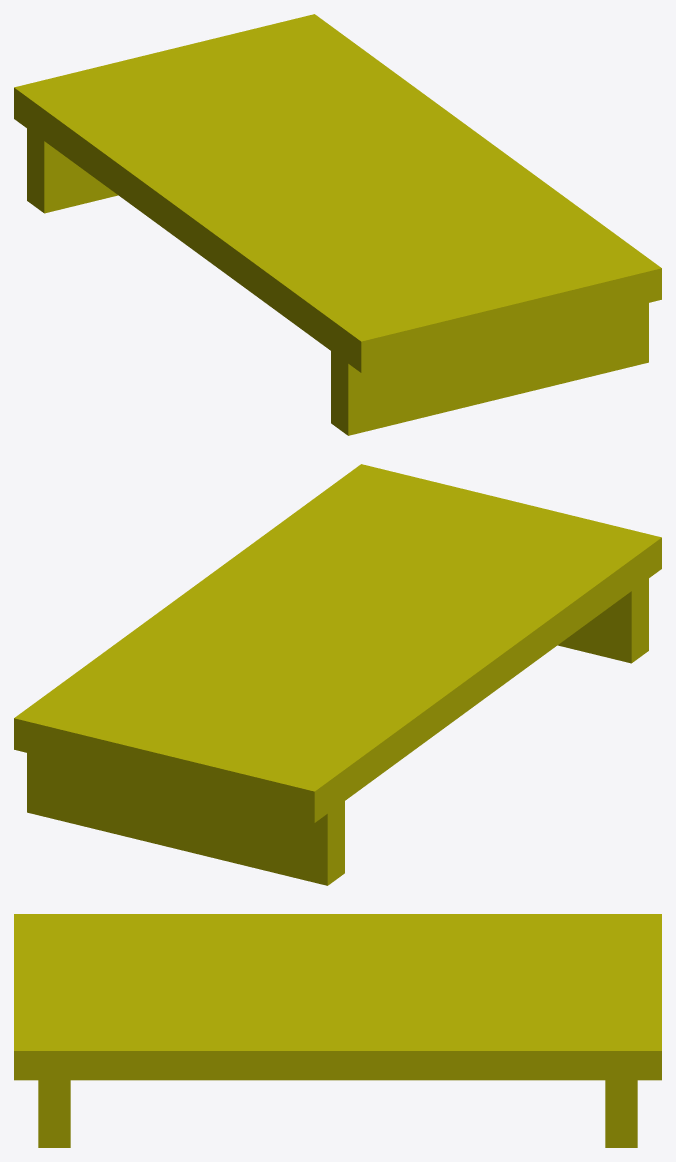
Rendered from guizi.glb.
The picture shows the model from 3 angles, top to bottom: view 1: azimuth 30°, elevation 25°; view 2: azimuth 150°, elevation 25°; view 3: azimuth 270°, elevation 25°; orthographic projection. The views are drawn at different scales.
Parts seen in each view (by area): view 1: Cube, Cube.001, Cube.002; view 2: Cube, Cube.002, Cube.001; view 3: Cube, Cube.002, Cube.001.
Part boxes in pixels (bbox=[...]): Cube: bbox=[14, 14, 661, 372]; Cube.001: bbox=[331, 303, 648, 435]; Cube.002: bbox=[27, 104, 118, 213]; Cube: bbox=[14, 464, 661, 822]; Cube.002: bbox=[27, 753, 344, 885]; Cube.001: bbox=[557, 557, 648, 663]; Cube: bbox=[14, 914, 661, 1080]; Cube.002: bbox=[605, 1057, 637, 1147]; Cube.001: bbox=[38, 1057, 70, 1147].
Size of the model in its own units: 2 by 0.66 by 4.
